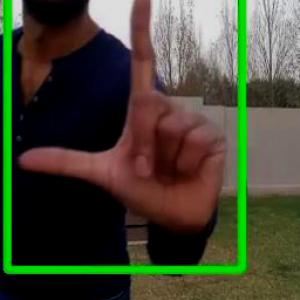land_hand: (15, 0, 231, 230)
